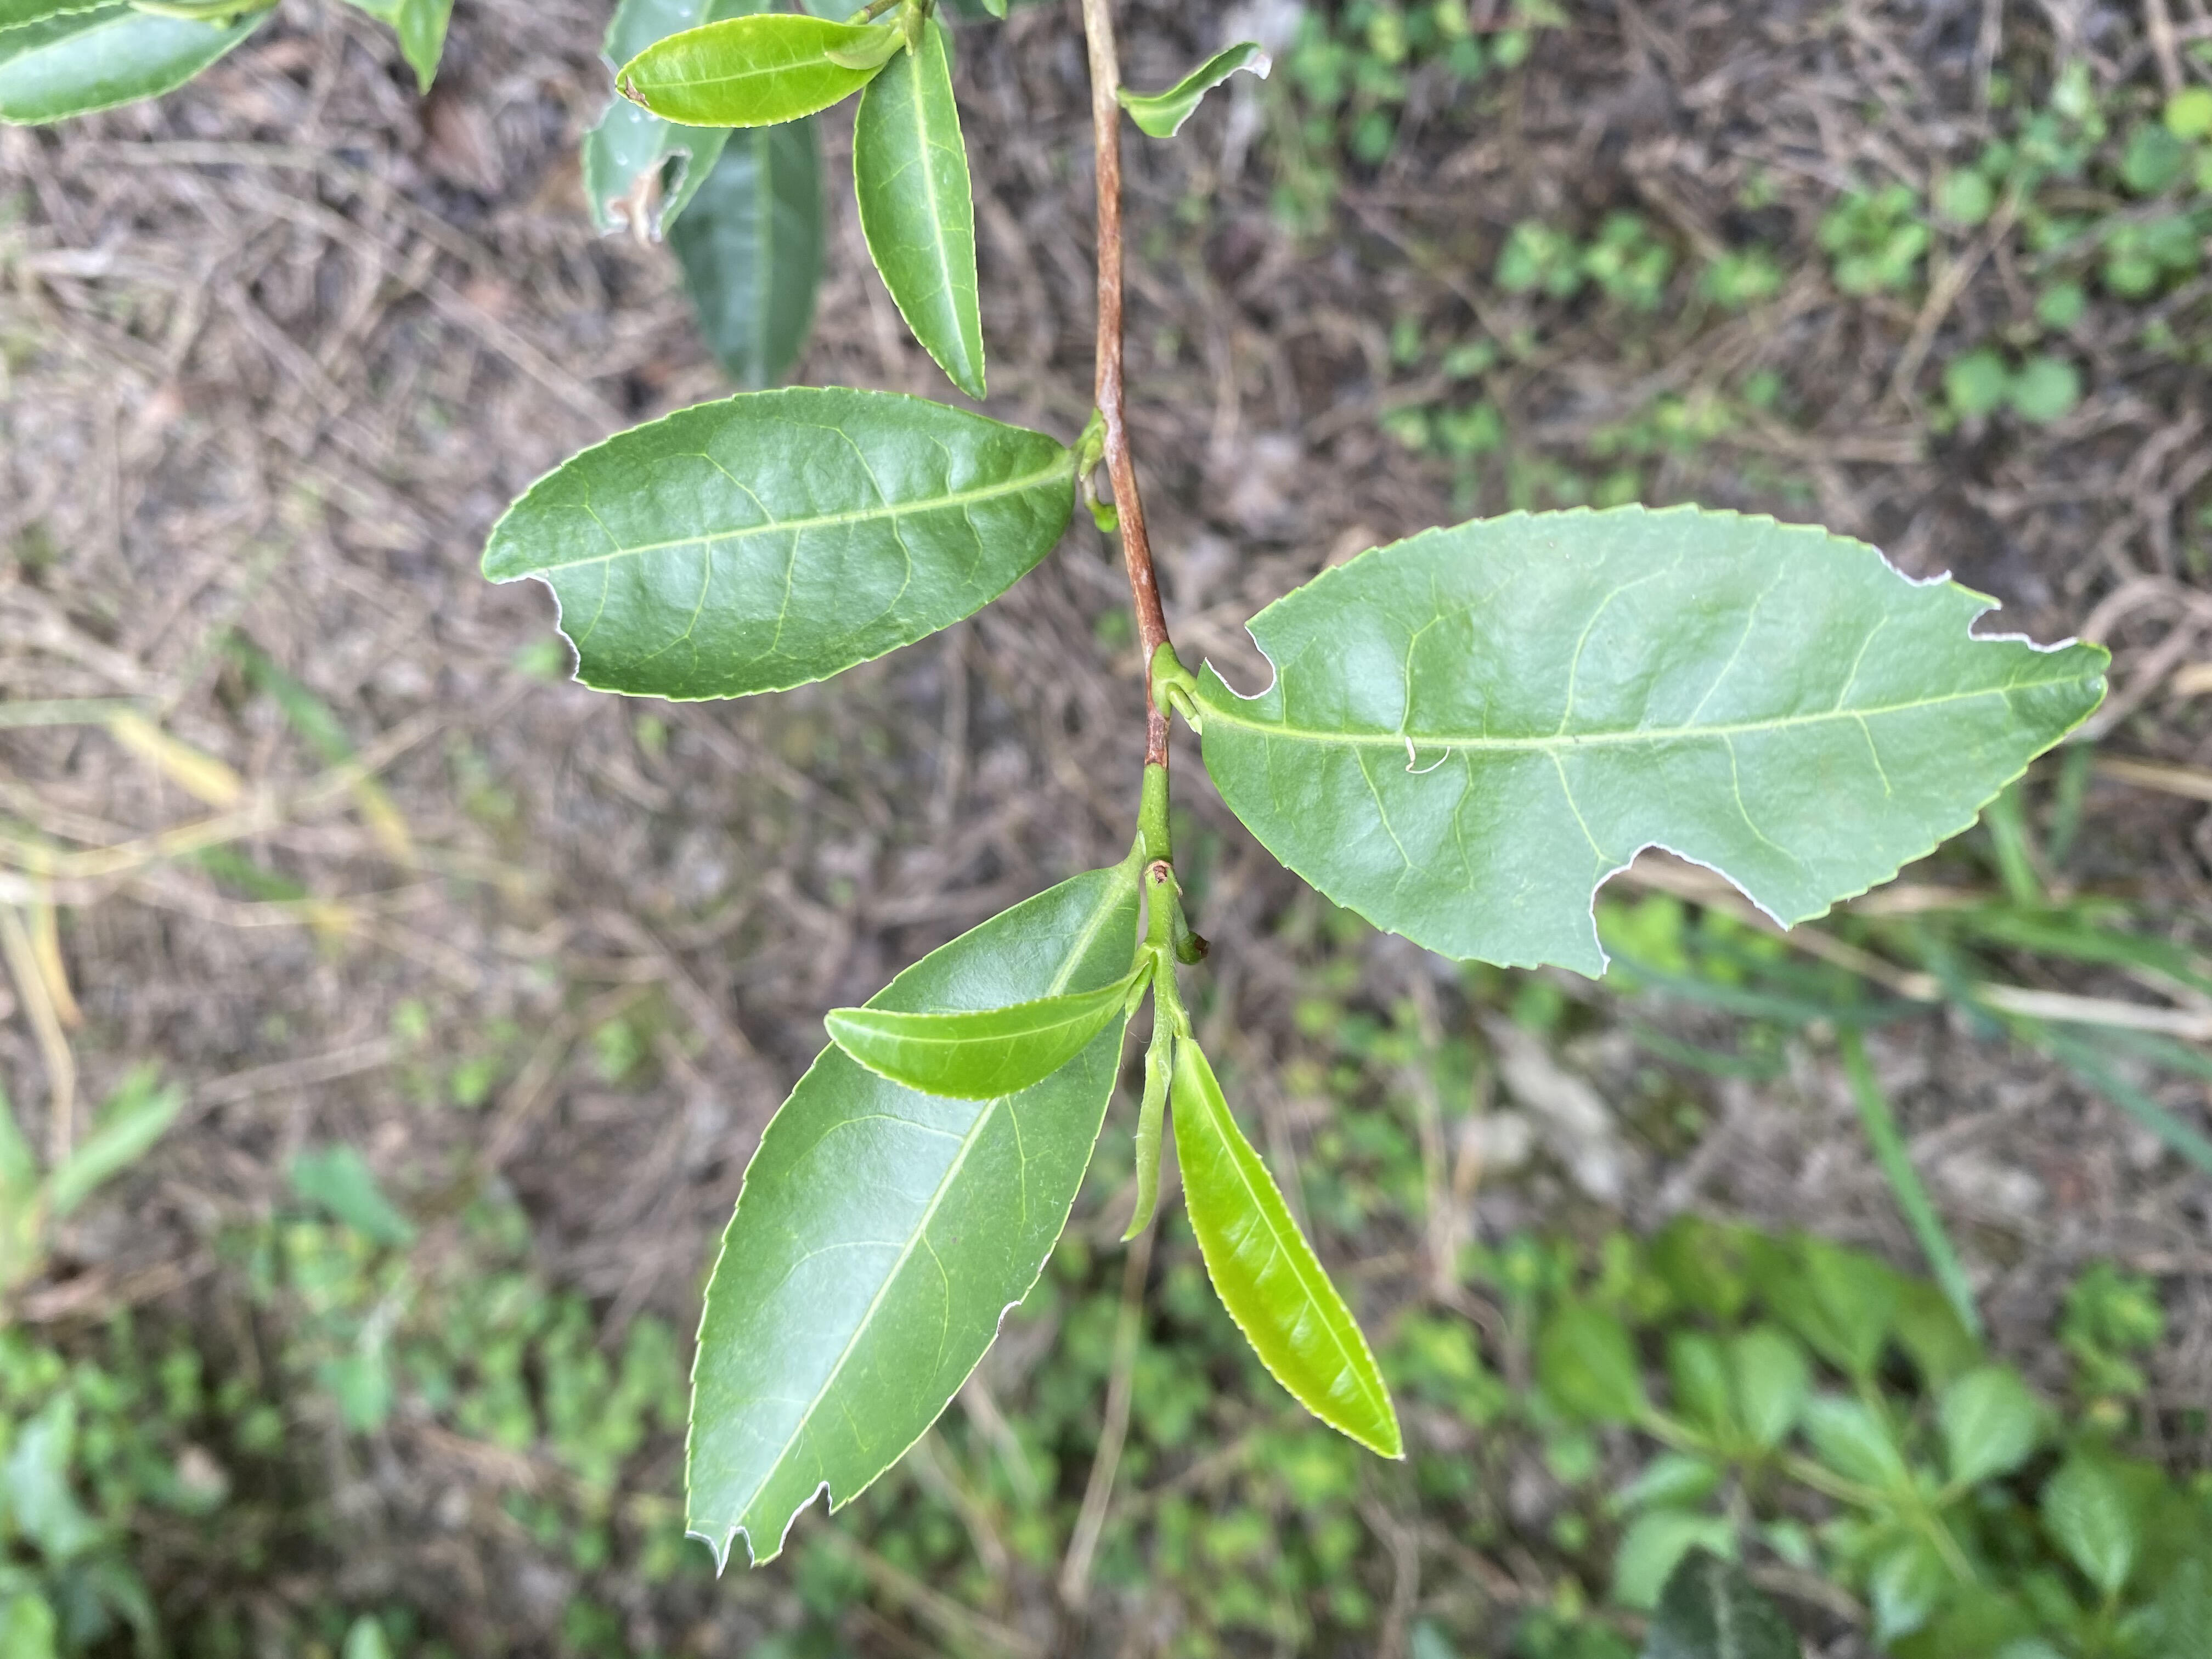chihuo_high: (1193, 502, 2114, 985), (679, 861, 1141, 1584)
chihuo_low: (477, 383, 1078, 706)
healthy: (1163, 1032, 1406, 1460), (852, 21, 993, 404), (824, 971, 1136, 1100)
tanju_low: (615, 14, 890, 125)
